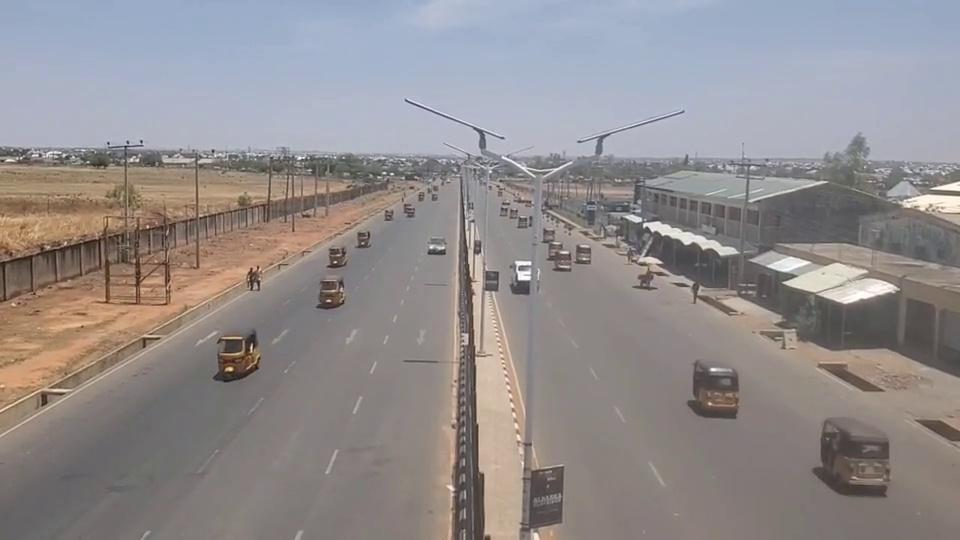bus: (511, 260, 533, 292)
car: (427, 237, 447, 255)
keke: (819, 415, 890, 494), (691, 358, 739, 416), (216, 329, 261, 379), (318, 276, 345, 308)
